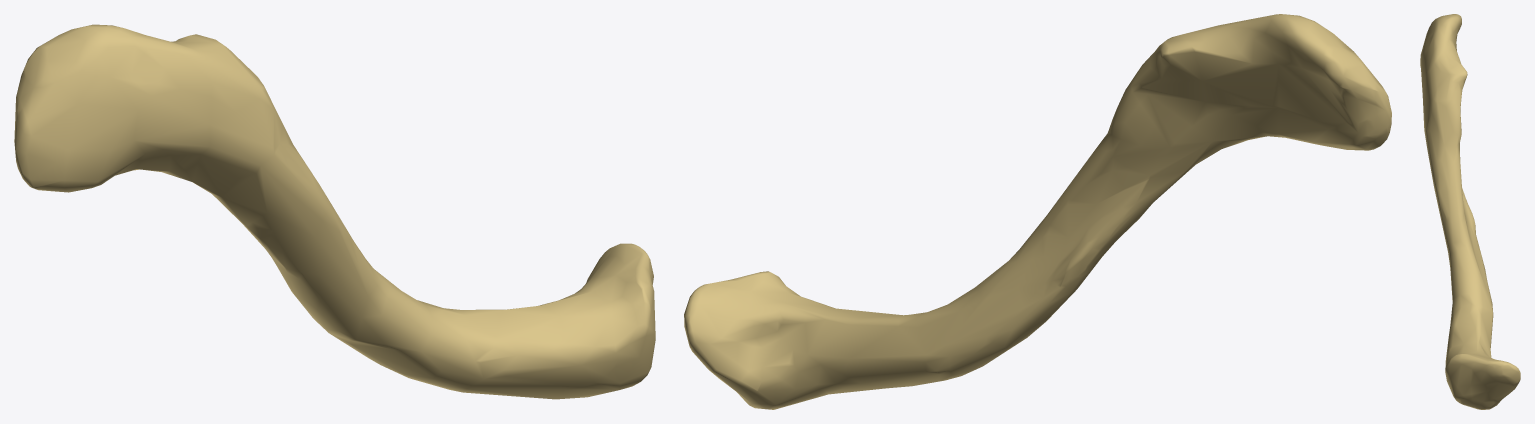
3 views of the same model, side by side, from view 1: azimuth 30°, elevation 25°; view 2: azimuth 150°, elevation 25°; view 3: azimuth 270°, elevation 25° (orthographic). The views are drawn at different scales.
Visible parts, largest first — view 1: 右侧锁骨; view 2: 右侧锁骨; view 3: 右侧锁骨.
Part boxes in pixels (left/top/right/bottom): 右侧锁骨: left=14, top=24, right=655, bottom=399; 右侧锁骨: left=684, top=14, right=1391, bottom=409; 右侧锁骨: left=1420, top=14, right=1520, bottom=409.
Bounding box in the file's own units: 0.2109 × 0.1514 × 0.0532.
